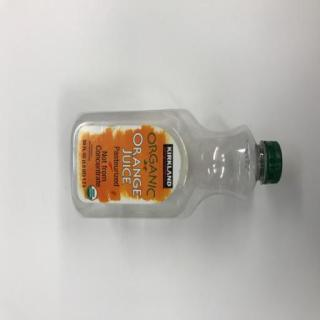Plastic-bottle: (69, 109, 285, 221)
